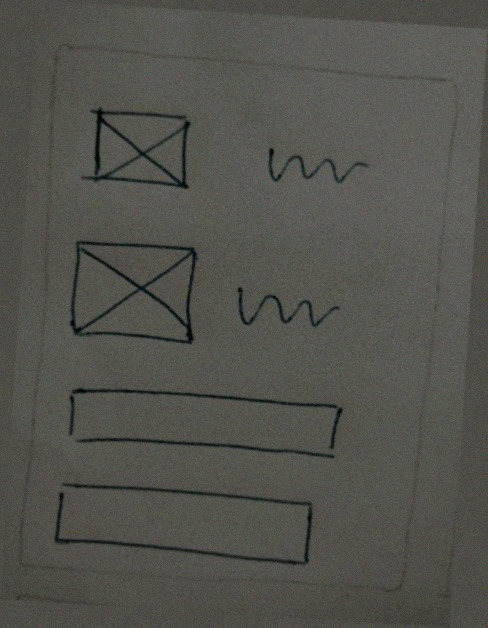image: (59, 229, 207, 357), (73, 95, 204, 204)
text: (217, 273, 352, 349), (248, 131, 383, 206)
text_input: (43, 473, 336, 572), (61, 373, 353, 472)
